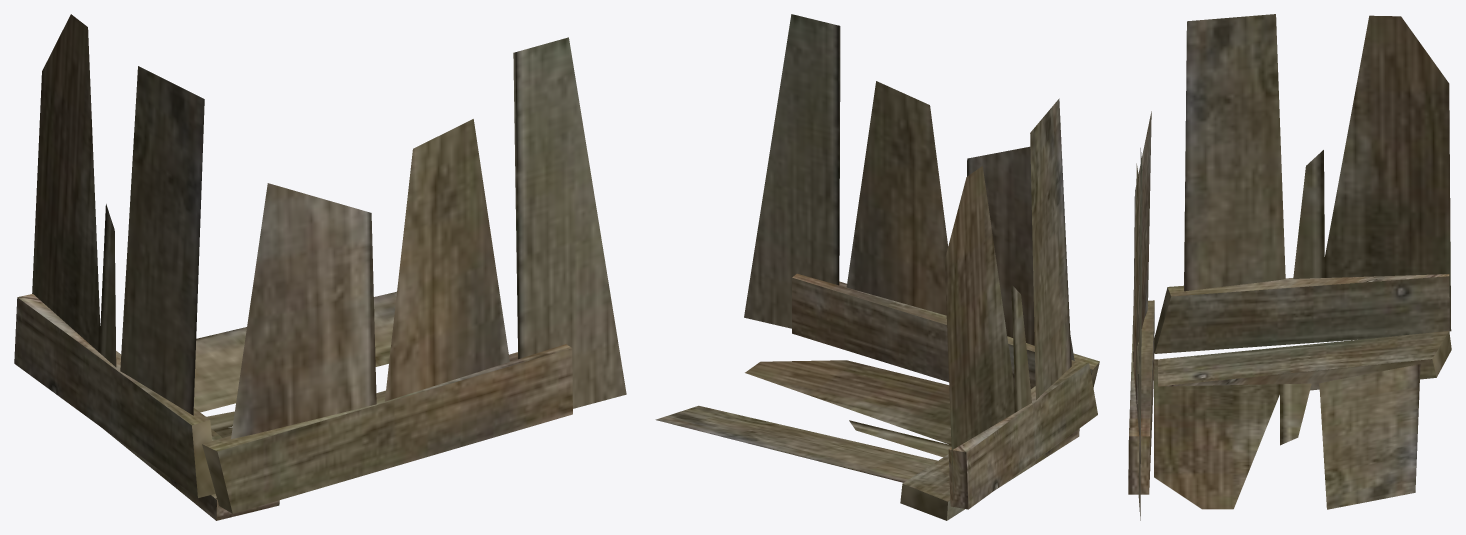
Rendered from prop_crate_dak_shard.glb.
The picture shows the model from 3 angles, left to right: view 1: azimuth 30°, elevation 25°; view 2: azimuth 150°, elevation 25°; view 3: azimuth 270°, elevation 25°; orthographic projection. The views are drawn at different scales.
Bounding box in the file's own units: 21.74 × 19.36 × 15.76.
1 material, 1 textured.
